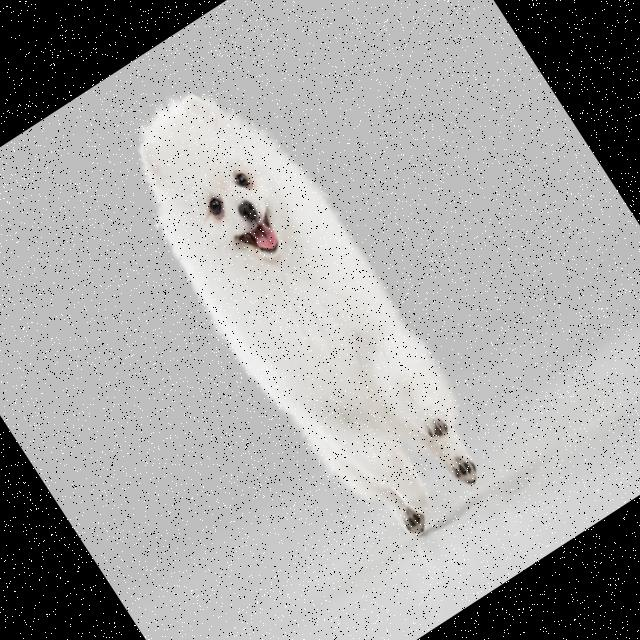Dog: (96, 52, 510, 566)
